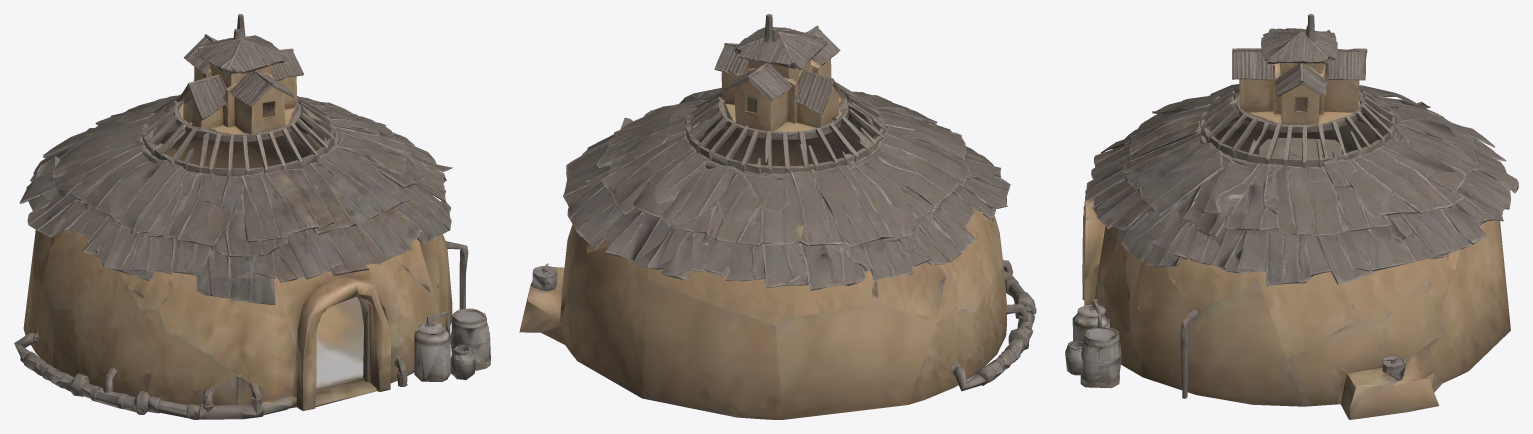
File: lawquanefarm.lod1.glb
3 renders of one model, left to right at view 1: azimuth 30°, elevation 25°; view 2: azimuth 150°, elevation 25°; view 3: azimuth 270°, elevation 25°, orthographic. The views are drawn at different scales.
Parts seen in each view (by area): view 1: lawquanefarm-centred; view 2: lawquanefarm-centred; view 3: lawquanefarm-centred.
Boxes of the visible parts, x1,y1,x2,y2 form: lawquanefarm-centred: (14,14,490,419); lawquanefarm-centred: (519,14,1036,419); lawquanefarm-centred: (1065,14,1518,419).
Size of the model in its own units: 15.99 by 10.99 by 14.79.
Materials: 1 (1 with a texture image).
